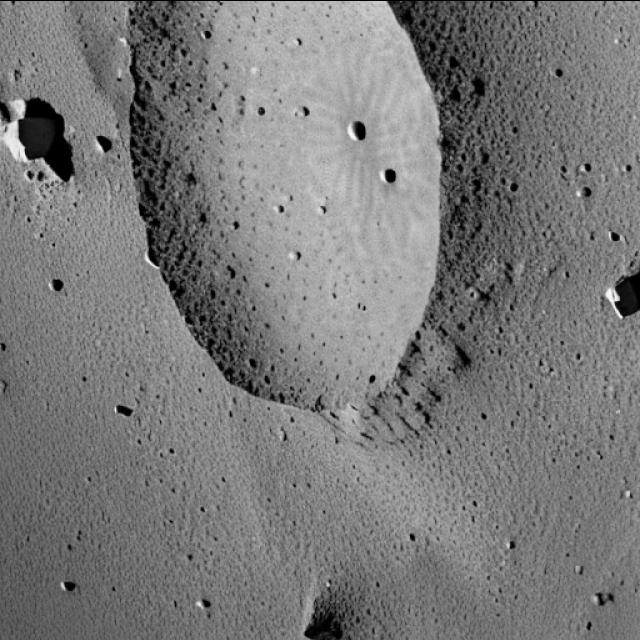crater: (126, 0, 446, 407)
